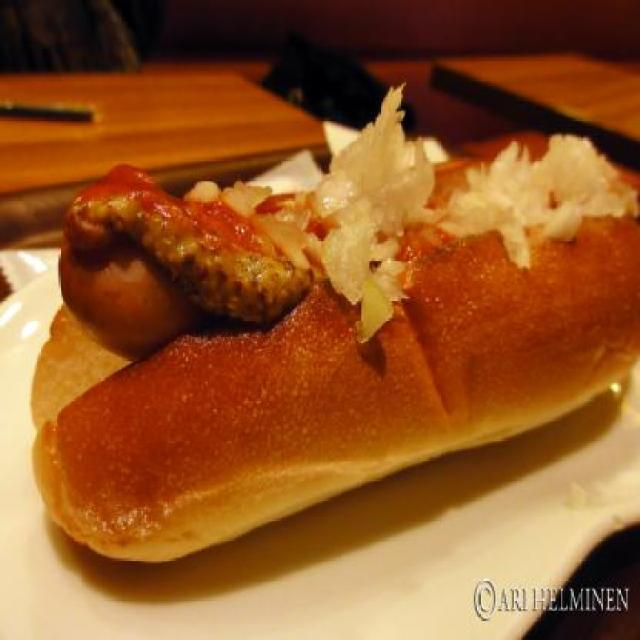Hot dog: (31, 75, 640, 572)
